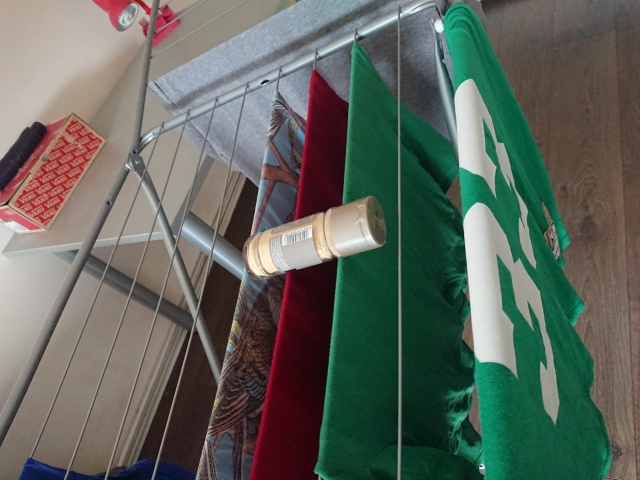Kotanyi Garlic Granules 70g: (238, 192, 390, 283)
